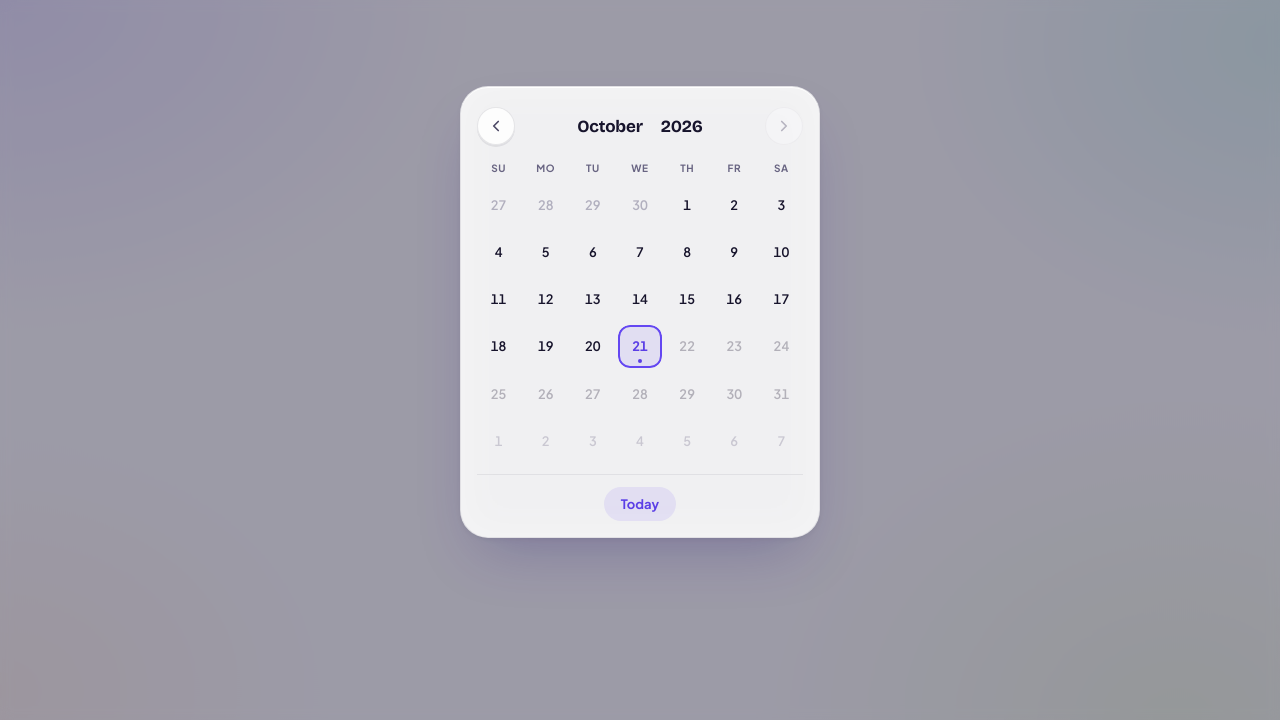
Test case: CalendarPicker › opens the year view from the month view
Click the button with aria-label "October, choose month": click(610, 126) [569,112,651,141]
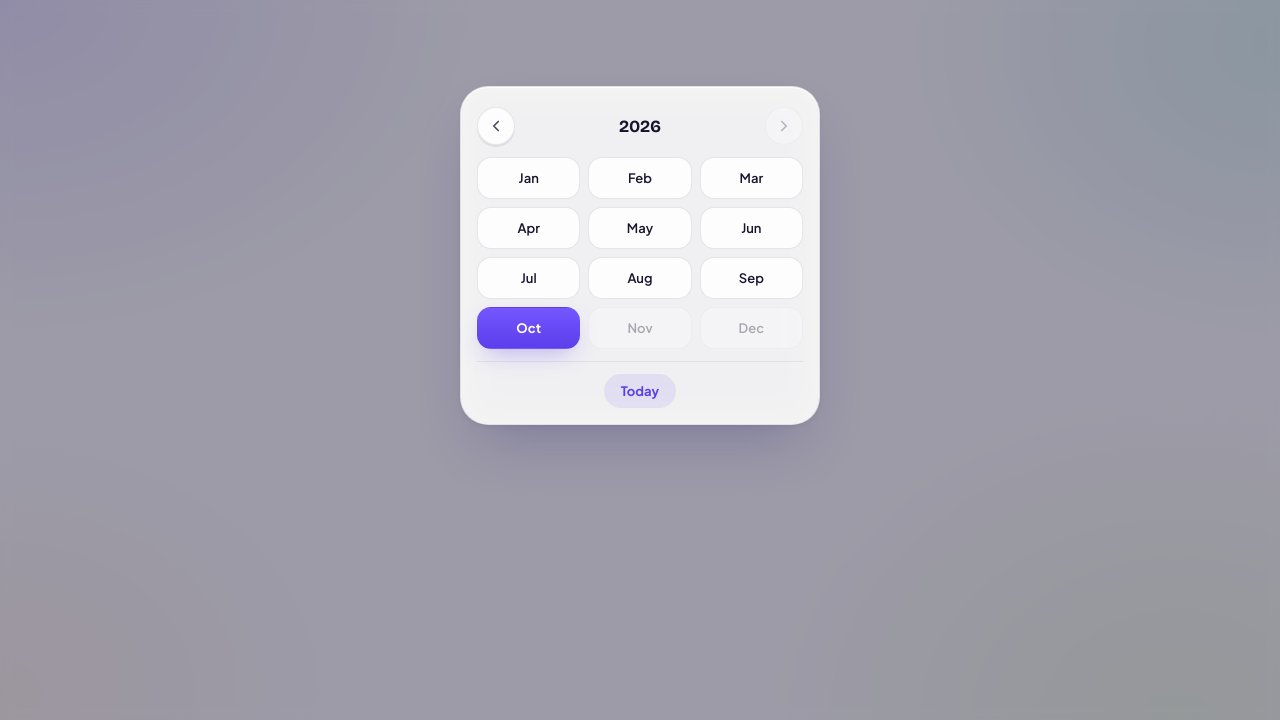
Click the button named "Choose year": click(496, 126) [477,107,515,145]
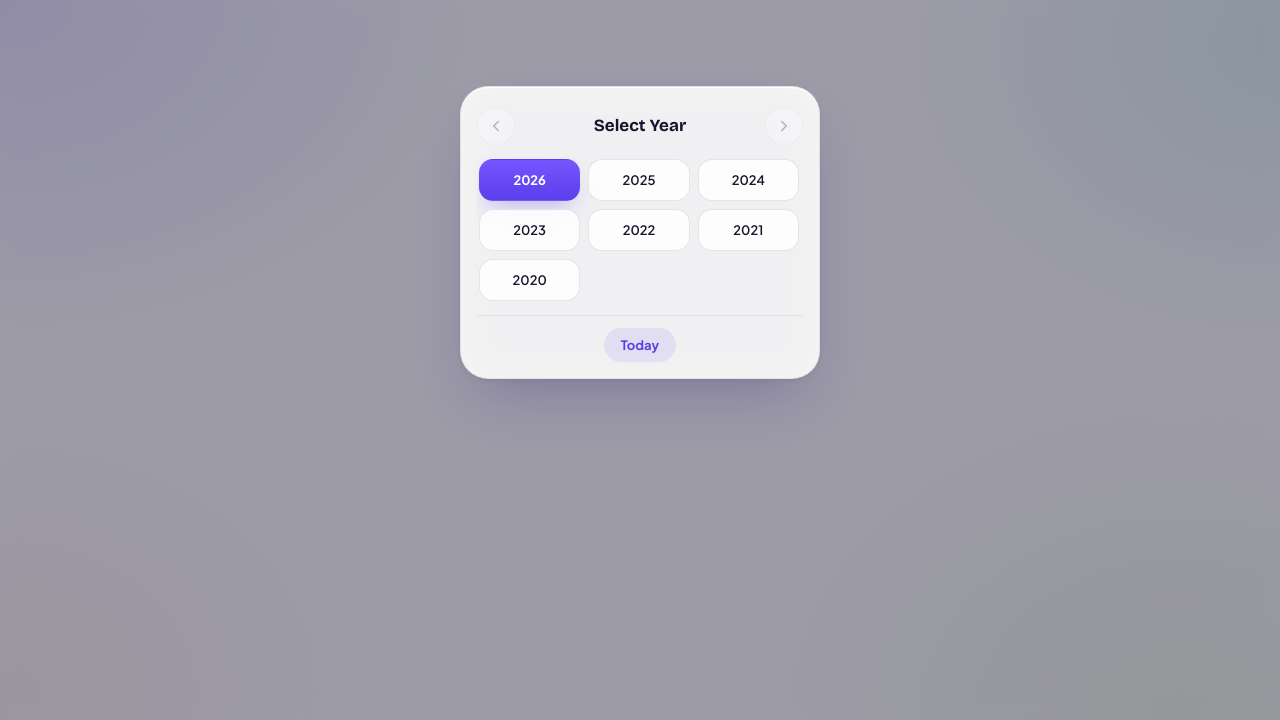
Now the text "Select Year" is shown, box [594,114,686,138]
Click the button "2025": click(639, 180) [588,159,690,201]
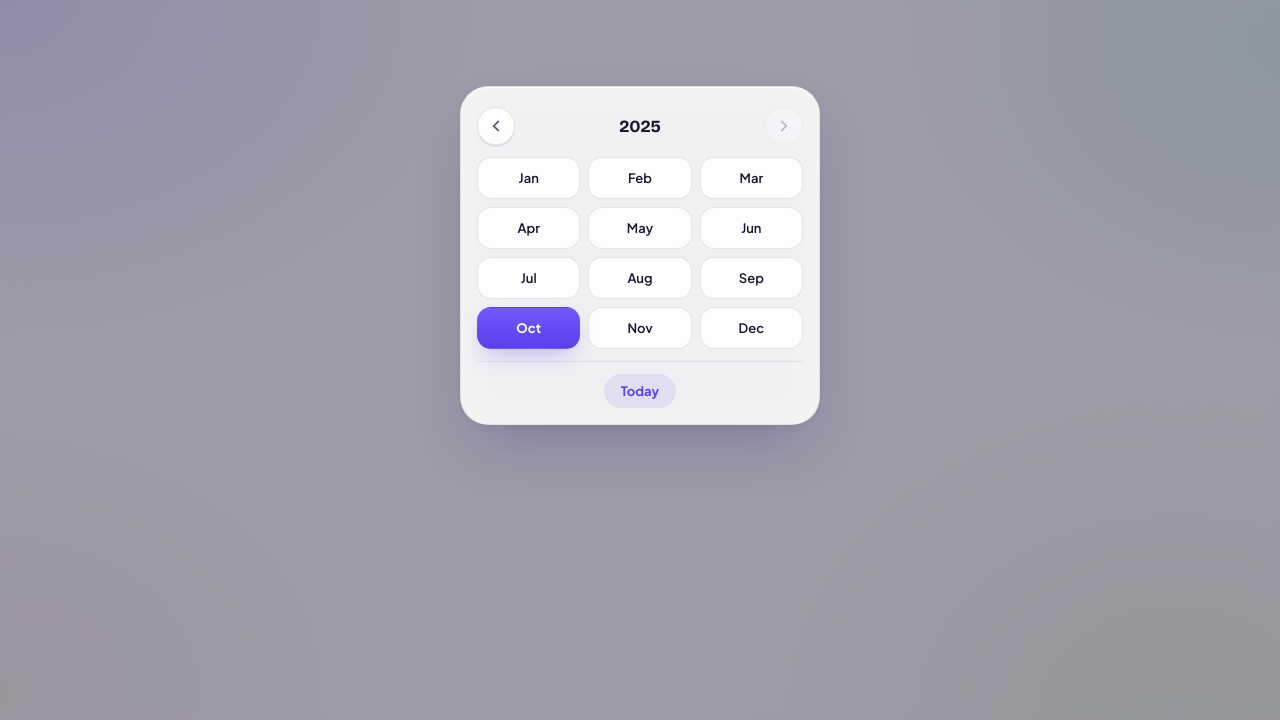
Click the button named "2025, choose year": click(640, 126) [611,112,669,141]
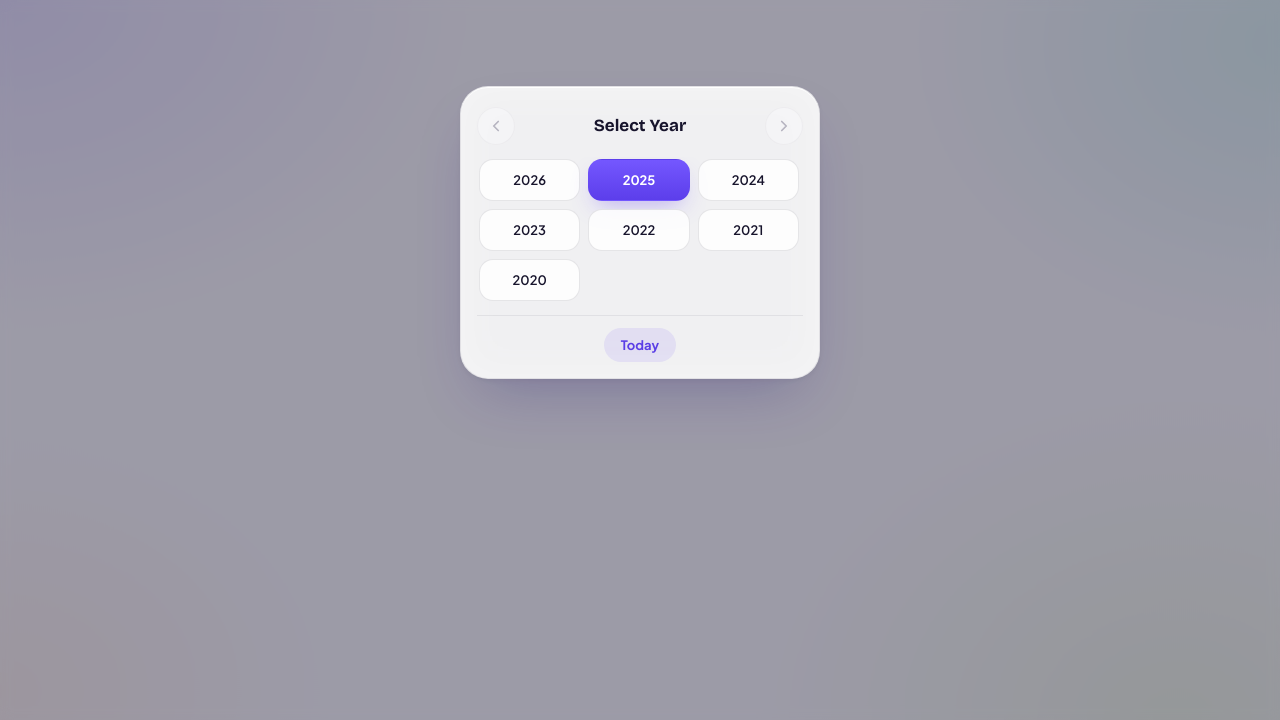
Now the text "Select Year" is shown, box [594,114,686,138]
